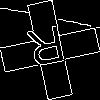R: (25, 25, 70, 77)
